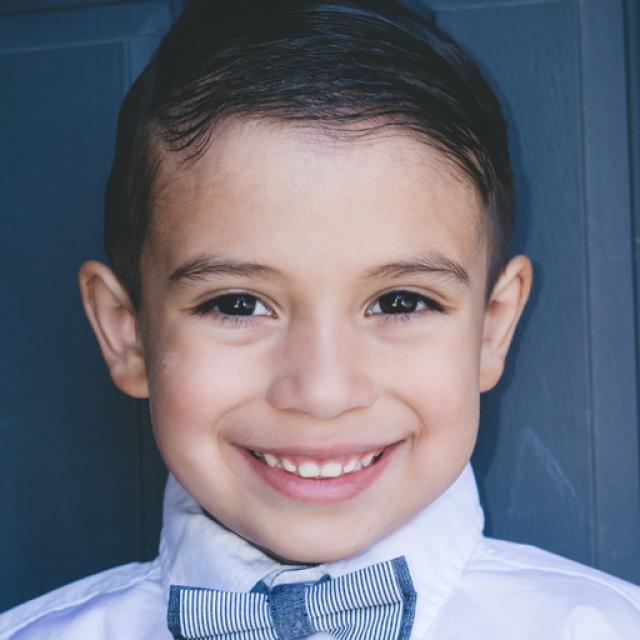happy: (145, 107, 485, 564)
